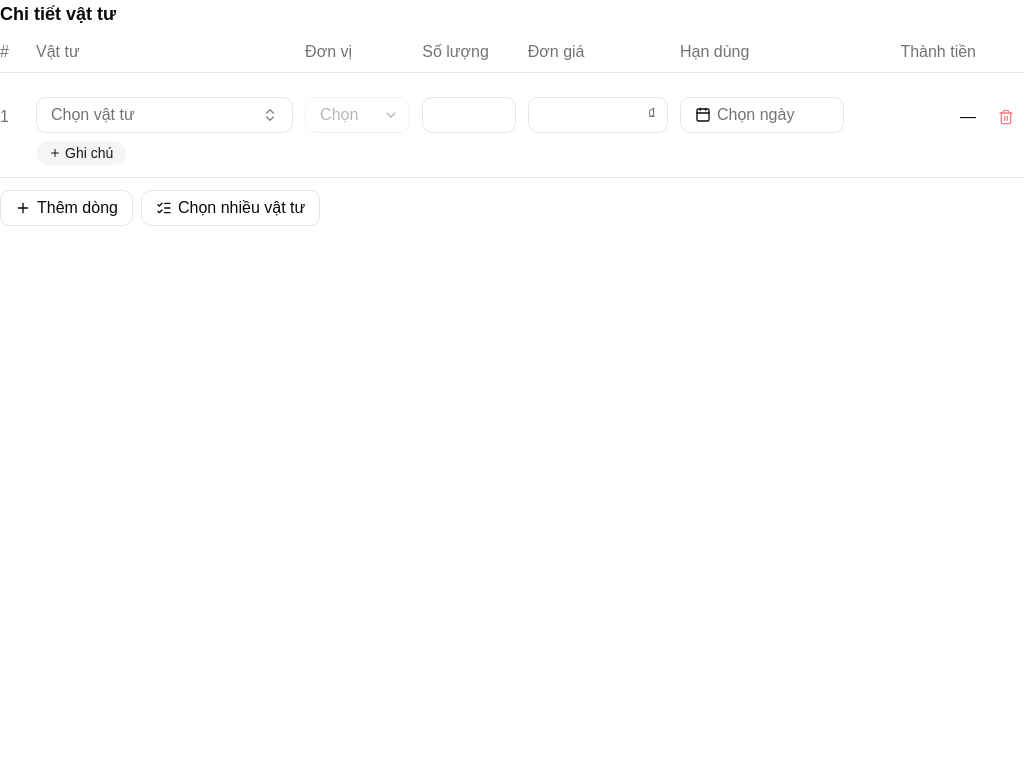
ImportFormItemsField › tìm vật tư lỗi → ô chọn báo không tải được, không nói "không có vật tư"
Step 1. Click the dropdown named "Vật tư dòng 1" → (165, 115), box top-left (36, 97), bottom-right (293, 133)
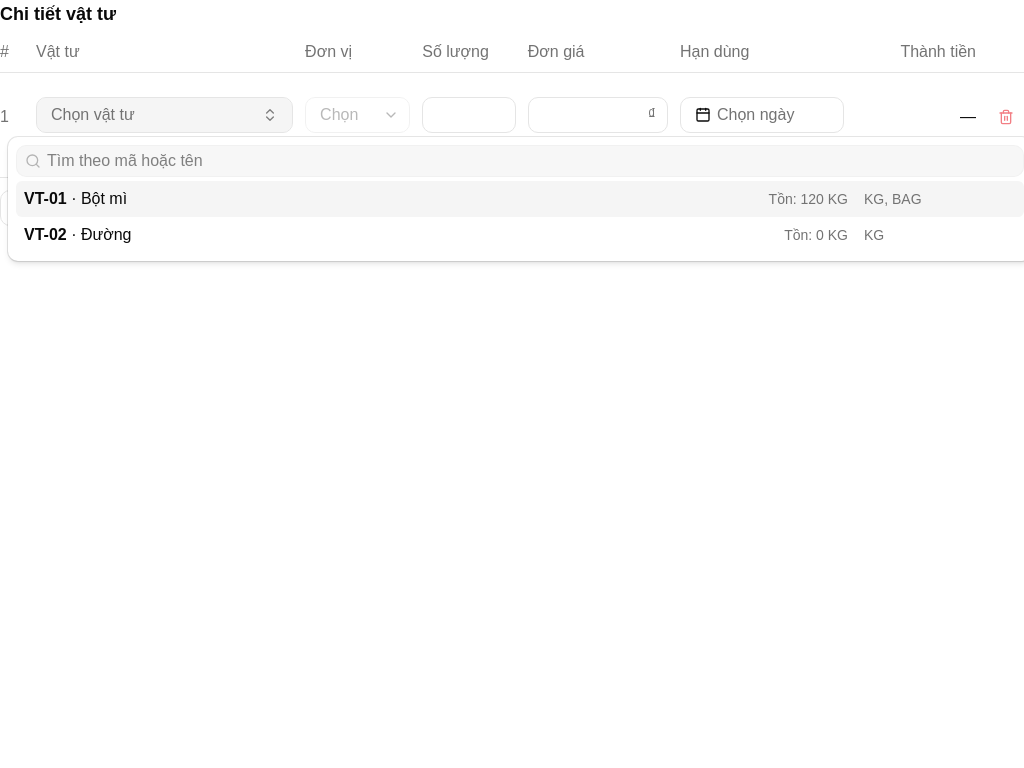
Step 2. Type "thép" into the dropdown labelled "Tìm theo mã hoặc tên" → (532, 161), box top-left (41, 149), bottom-right (1023, 173)
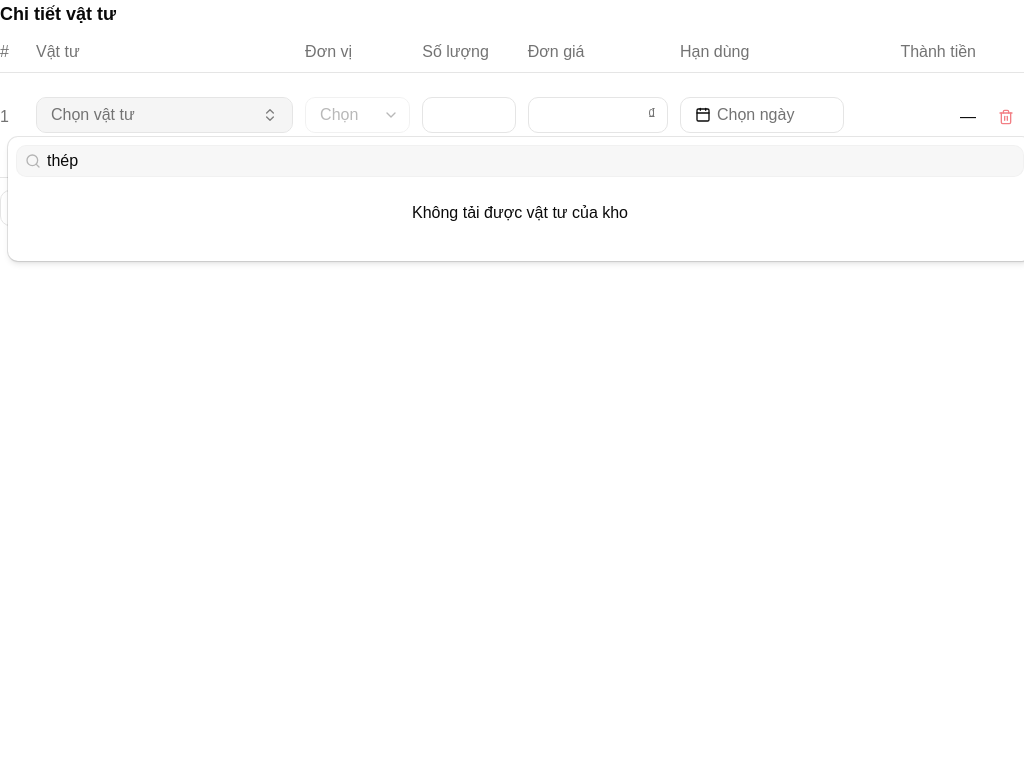
Expected: the text "Không tải được vật tư của kho" is shown, top-left (412, 204), bottom-right (628, 221)
